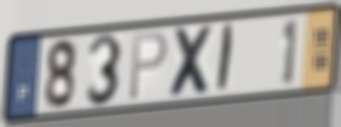1: (280, 15, 299, 89)
3: (85, 31, 125, 109)
8: (42, 37, 80, 111)
I: (214, 21, 237, 97)
P: (127, 29, 170, 104)
X: (167, 22, 217, 100)
